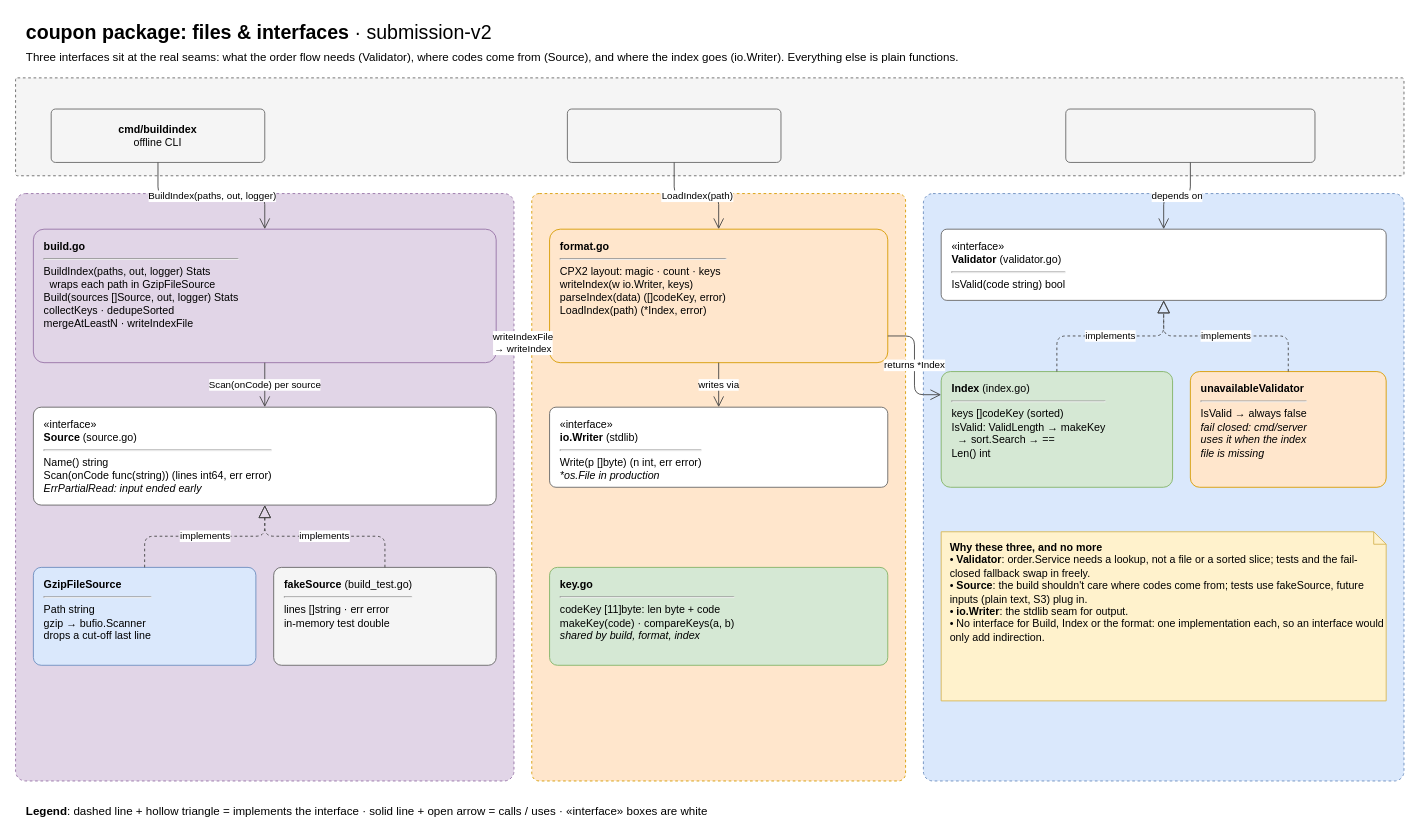
Some shapes in this 1420 by 835 pixel diagram are drawn without their labels. The shapes that lost their labels are listed below. From the top down, each one's box as (x1, y1, x2, y2) in pixels, then its label:
(566, 108, 781, 162): cmd/server loadCouponValidator()
(15, 77, 1404, 176): CALLERS
(1065, 108, 1315, 162): order.Service.PlaceOrder coupons.IsValid(code)
(15, 193, 514, 781): BUILD SIDE (offline)
(531, 193, 906, 781): FILE FORMAT
(922, 193, 1404, 781): RUNTIME (per request)
